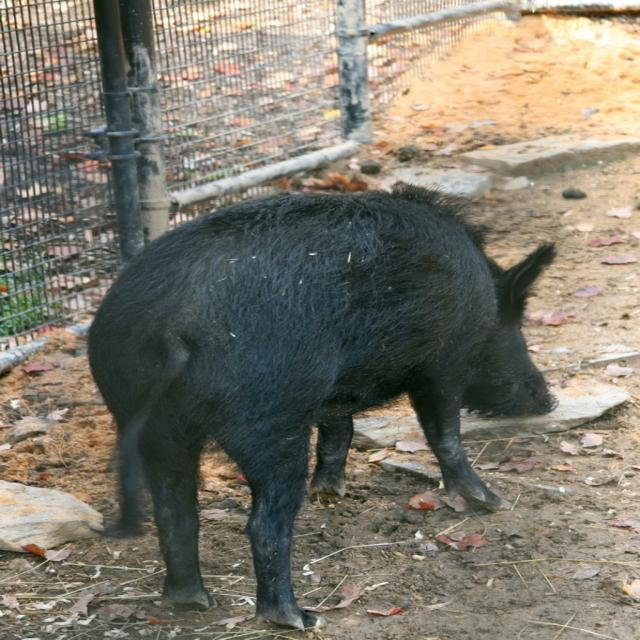Pig: (87, 191, 560, 630)
